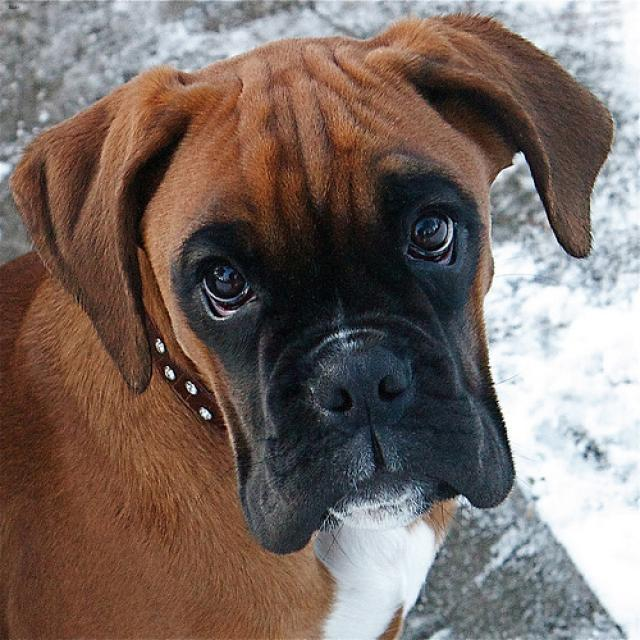dog-boxer: (1, 5, 626, 637)
